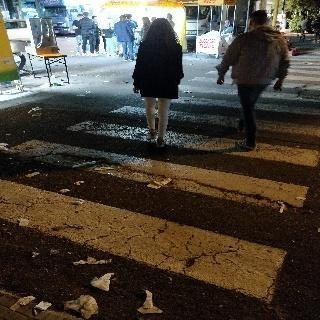road_crosswalk: (3, 135, 290, 305)
